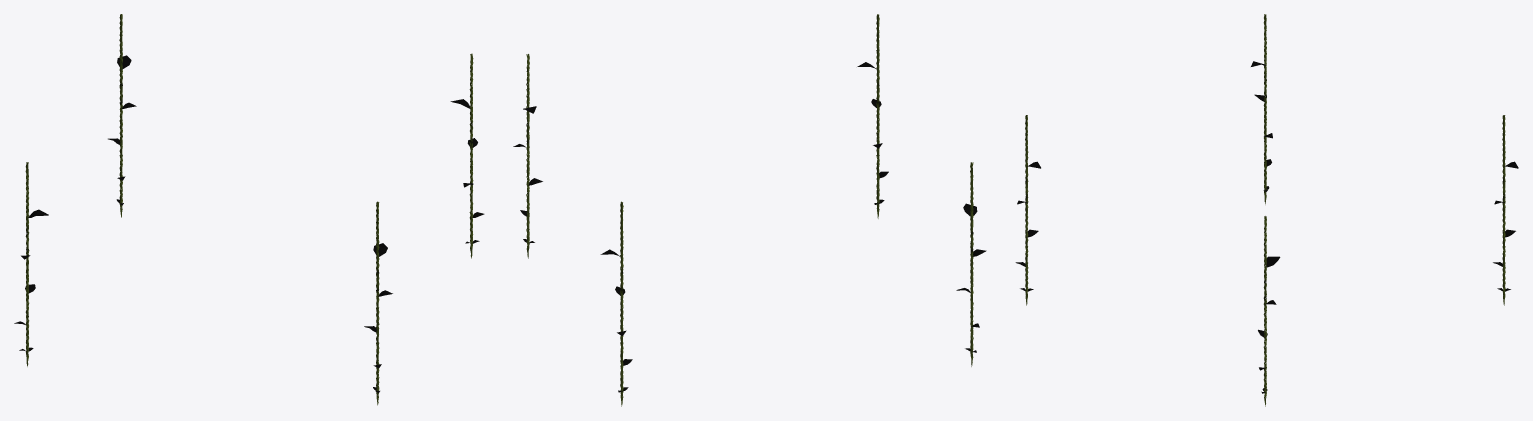
File: tree3-s1.fbx
3 views of the same model, side by side, from view 1: azimuth 30°, elevation 25°; view 2: azimuth 150°, elevation 25°; view 3: azimuth 270°, elevation 25° (orthographic). The views are drawn at different scales.
Visible parts, largest first — view 1: Retopo_Cylinder.001, Retopo_Cylinder.002, Retopo_Cylinder.004, Retopo_Cylinder.003; view 2: Retopo_Cylinder.003, Retopo_Cylinder.002, Retopo_Cylinder.001, Retopo_Cylinder.004; view 3: Retopo_Cylinder.001, Retopo_Cylinder.004, Retopo_Cylinder.002, Retopo_Cylinder.003.
Part boxes in pixels (x1=…): Retopo_Cylinder.001: x1=108, y1=14, x2=136, y2=217; Retopo_Cylinder.002: x1=364, y1=201, x2=392, y2=405; Retopo_Cylinder.004: x1=450, y1=53, x2=484, y2=258; Retopo_Cylinder.003: x1=14, y1=162, x2=48, y2=366; Retopo_Cylinder.003: x1=956, y1=162, x2=986, y2=366; Retopo_Cylinder.002: x1=857, y1=14, x2=888, y2=218; Retopo_Cylinder.001: x1=600, y1=201, x2=632, y2=406; Retopo_Cylinder.004: x1=513, y1=54, x2=542, y2=258; Retopo_Cylinder.001: x1=1493, y1=115, x2=1518, y2=305; Retopo_Cylinder.004: x1=1258, y1=216, x2=1280, y2=406; Retopo_Cylinder.002: x1=1015, y1=115, x2=1040, y2=305; Retopo_Cylinder.003: x1=1251, y1=14, x2=1272, y2=204.
Size of the model in its own units: 83.85 by 35.27 by 84.38.
